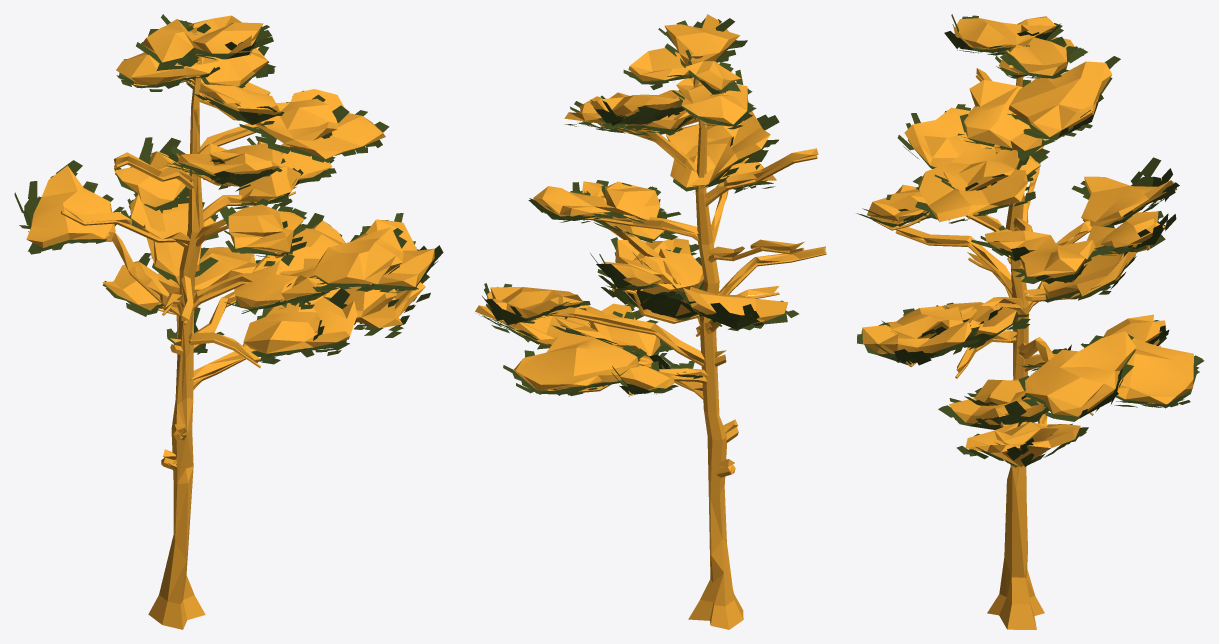
File: SM_Tree_Pine_Mature_A_Snow.fbx
3 views of the same model, side by side, from view 1: azimuth 30°, elevation 25°; view 2: azimuth 150°, elevation 25°; view 3: azimuth 270°, elevation 25° (orthographic). The views are drawn at different scales.
Visible parts, largest first — view 1: tree-pine-mature-a-snow; view 2: tree-pine-mature-a-snow; view 3: tree-pine-mature-a-snow.
Part boxes in pixels (bbox=[...]): tree-pine-mature-a-snow: bbox=[14, 14, 443, 629]; tree-pine-mature-a-snow: bbox=[475, 14, 826, 629]; tree-pine-mature-a-snow: bbox=[856, 14, 1204, 629].
Size of the model in its own units: 7.56 by 11.86 by 6.12.
